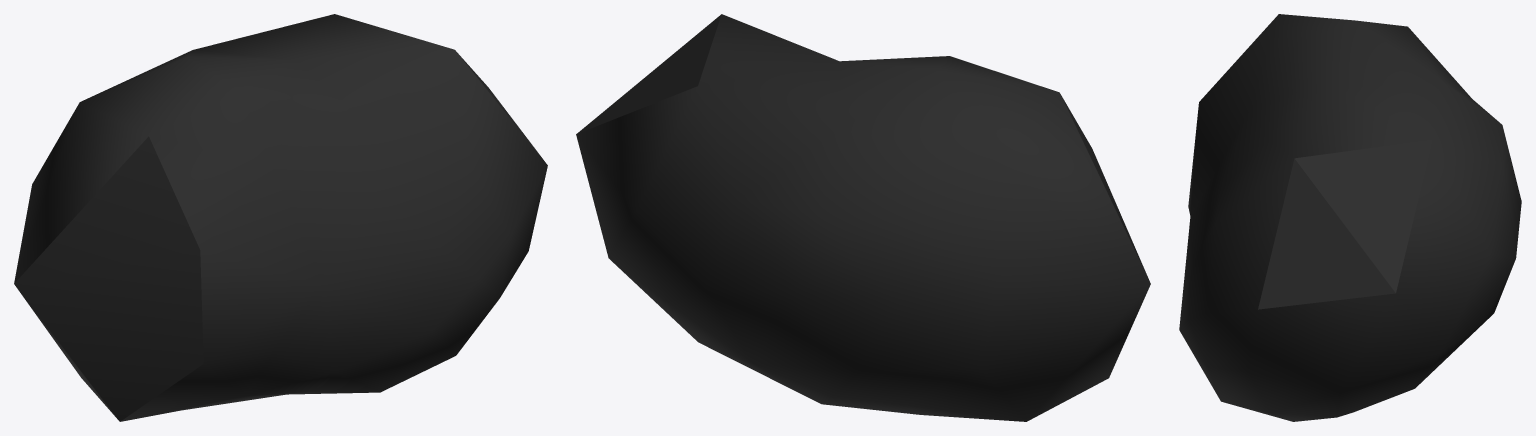
Rendered from rock2dark.FBX.
The picture shows the model from 3 angles, left to right: view 1: azimuth 30°, elevation 25°; view 2: azimuth 150°, elevation 25°; view 3: azimuth 270°, elevation 25°; orthographic projection. The views are drawn at different scales.
Visible parts, largest first — view 1: default; view 2: default; view 3: default.
Part boxes in pixels (x1,y1,x2,y2): default: [14, 14, 547, 421]; default: [576, 14, 1150, 421]; default: [1179, 14, 1521, 421].
Bounding box in the file's own units: 0.0888 × 0.0551 × 0.0532.
1 material, 1 textured.
